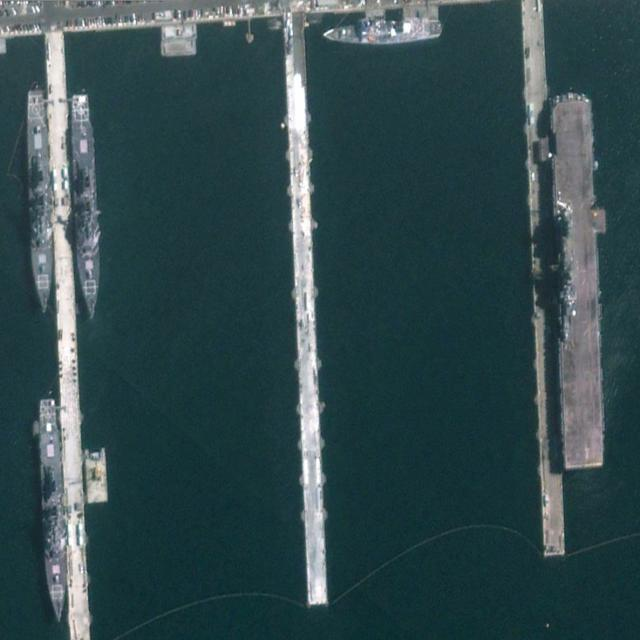Destroyer: (67, 91, 103, 324), (25, 87, 56, 316)
Landing: (537, 90, 615, 472)
Other Ship: (37, 397, 69, 625), (323, 15, 442, 48)
